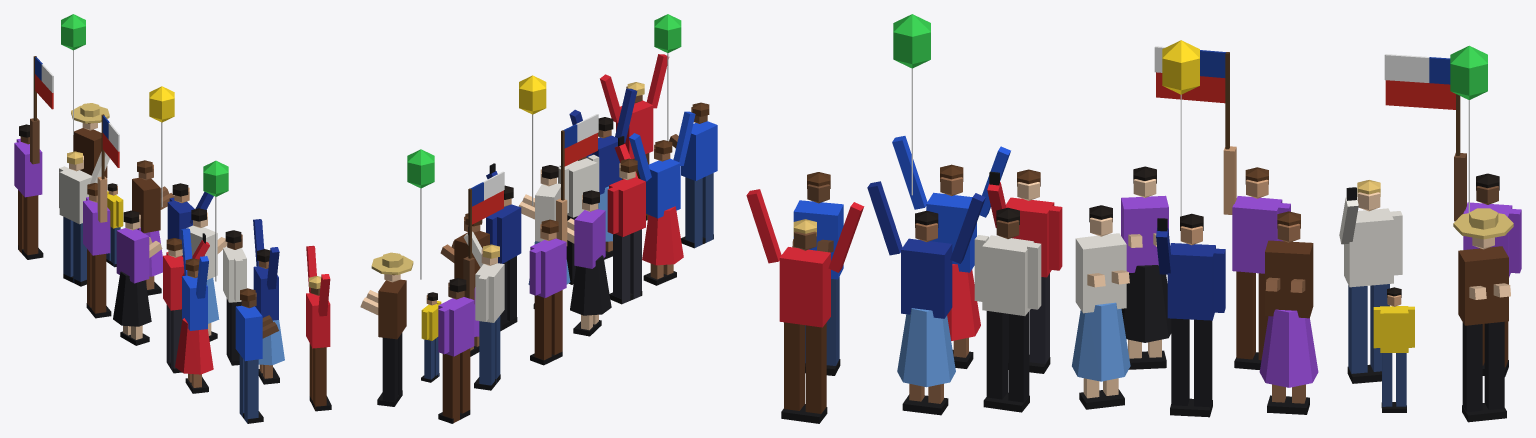
The model's file is publico_fiesta_0.obj.
3 renders of one model, left to right at view 1: azimuth 30°, elevation 25°; view 2: azimuth 150°, elevation 25°; view 3: azimuth 270°, elevation 25°, orthographic. The views are drawn at different scales.
Visible parts, largest first — view 1: publico_fiesta_0; view 2: publico_fiesta_0; view 3: publico_fiesta_0.
Boxes of the visible parts, bbox=[...] form: publico_fiesta_0: bbox=[14, 14, 331, 423]; publico_fiesta_0: bbox=[360, 14, 717, 423]; publico_fiesta_0: bbox=[746, 14, 1521, 423].
Size of the model in its own units: 1.57 by 3.09 by 6.17.
